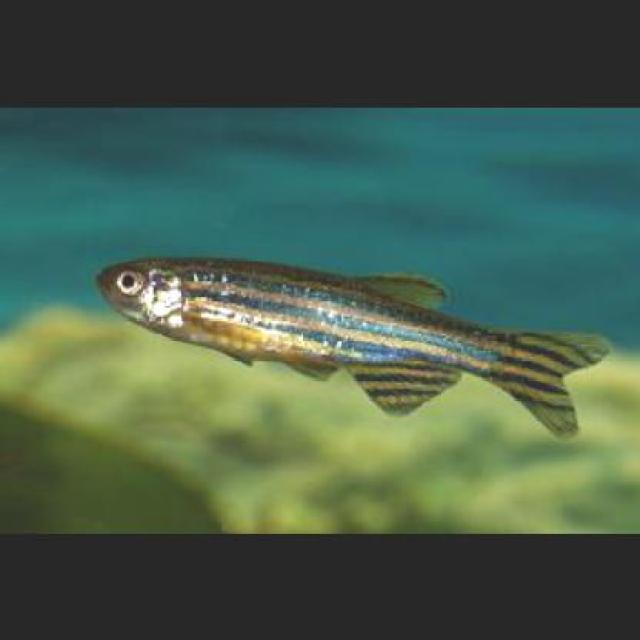ZebraFish: (98, 248, 610, 438)
